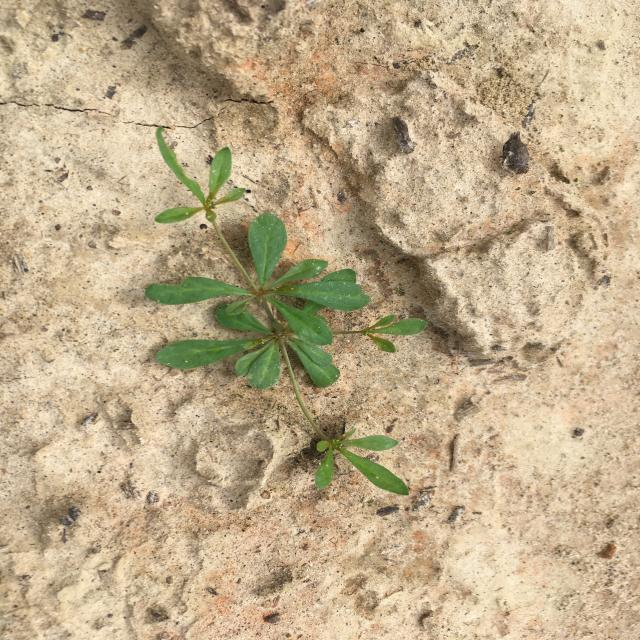Carpetweed: (144, 125, 428, 496)
